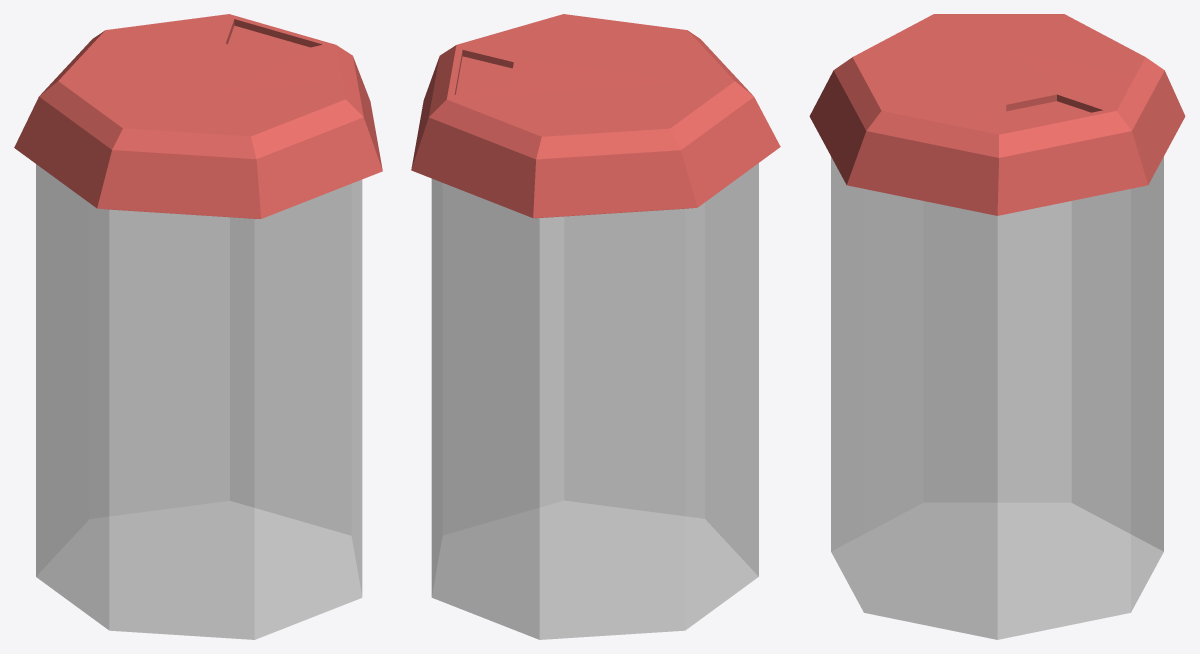
File: Cup_Portable.fbx
The picture shows the model from 3 angles, left to right: view 1: azimuth 30°, elevation 25°; view 2: azimuth 150°, elevation 25°; view 3: azimuth 270°, elevation 25°; orthographic projection.
Parts seen in each view (by area): view 1: Cylinder001.001, Cylinder001; view 2: Cylinder001.001, Cylinder001; view 3: Cylinder001.001, Cylinder001.
Part boxes in pixels (box(x1,y1,x2,y2)): Cylinder001.001: box(36, 164, 362, 639); Cylinder001: box(14, 14, 382, 218); Cylinder001.001: box(431, 163, 758, 639); Cylinder001: box(411, 14, 780, 218); Cylinder001.001: box(831, 157, 1163, 639); Cylinder001: box(809, 14, 1185, 215).
Size of the model in its own units: 9.66 by 14.48 by 9.91.
